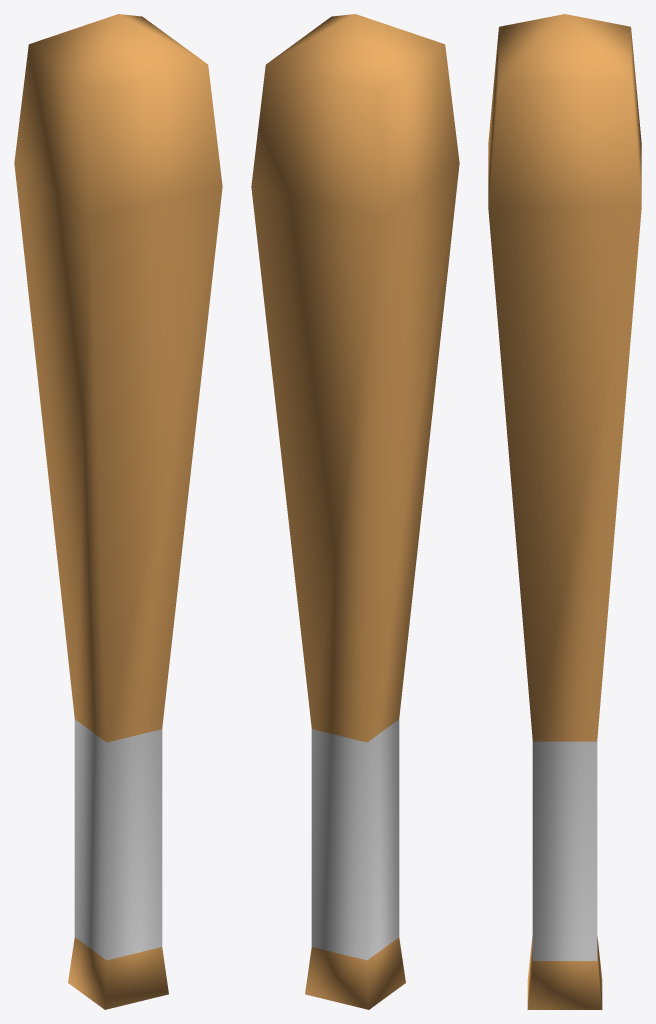
The model's file is weapon_bat.fbx.
3 views of the same model, side by side, from view 1: azimuth 30°, elevation 25°; view 2: azimuth 150°, elevation 25°; view 3: azimuth 270°, elevation 25° (orthographic).
Parts seen in each view (by area): view 1: Cube; view 2: Cube; view 3: Cube.
Boxes of the visible parts, left/top/right/bottom form: Cube: left=14, top=14, right=222, bottom=1009; Cube: left=251, top=14, right=459, bottom=1009; Cube: left=488, top=14, right=641, bottom=1009.
Bounding box in the file's own units: 23.81 × 168 × 23.81.
